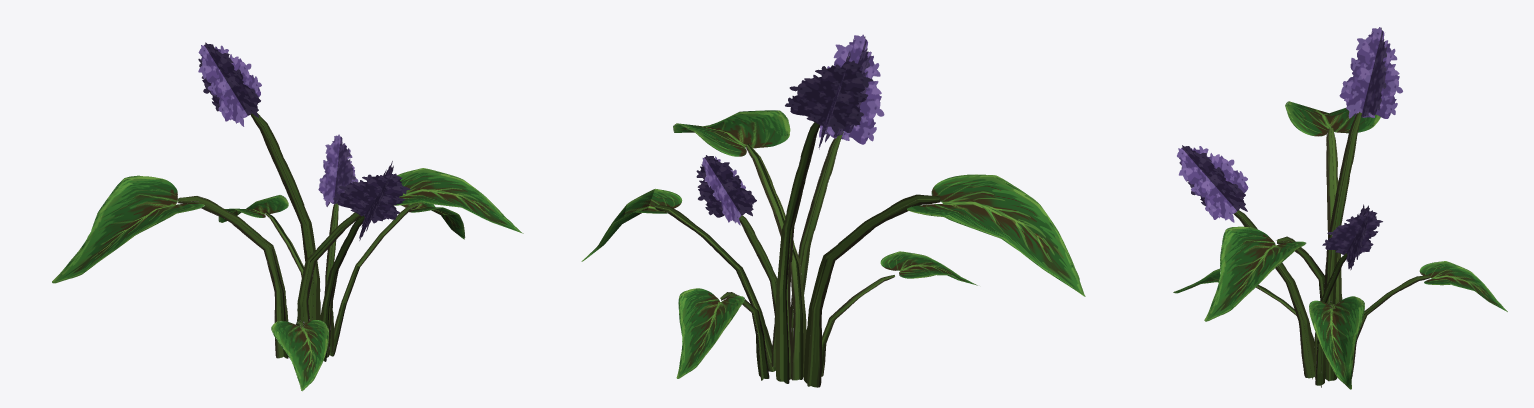
The model's file is plant2.fbx.
3 views of the same model, side by side, from view 1: azimuth 30°, elevation 25°; view 2: azimuth 150°, elevation 25°; view 3: azimuth 270°, elevation 25° (orthographic). The views are drawn at different scales.
Parts seen in each view (by area): view 1: Plane.030; view 2: Plane.030; view 3: Plane.030.
Boxes of the visible parts, x1=… form: Plane.030: x1=52, y1=42, x2=523, y2=391; Plane.030: x1=581, y1=34, x2=1085, y2=387; Plane.030: x1=1173, y1=27, x2=1507, y2=389.
Bounding box in the file's own units: 444 × 320 × 320.
